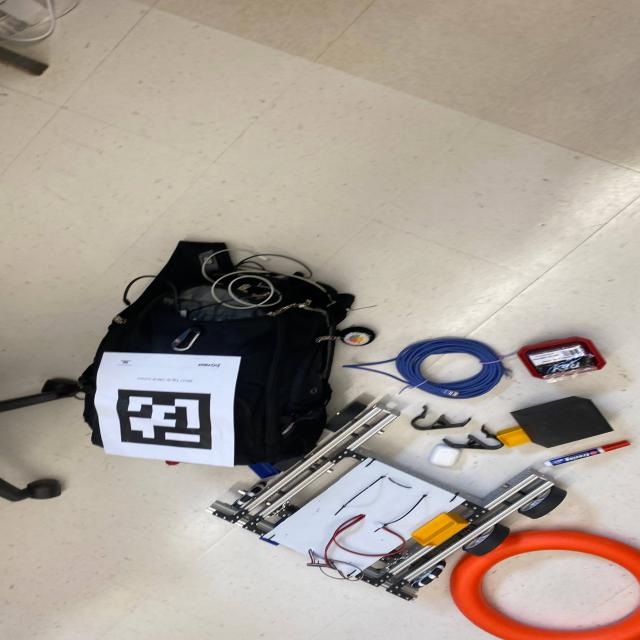blue-specimen: (248, 463, 282, 479)
yellow-specimen: (411, 513, 469, 546), (496, 425, 531, 447)
